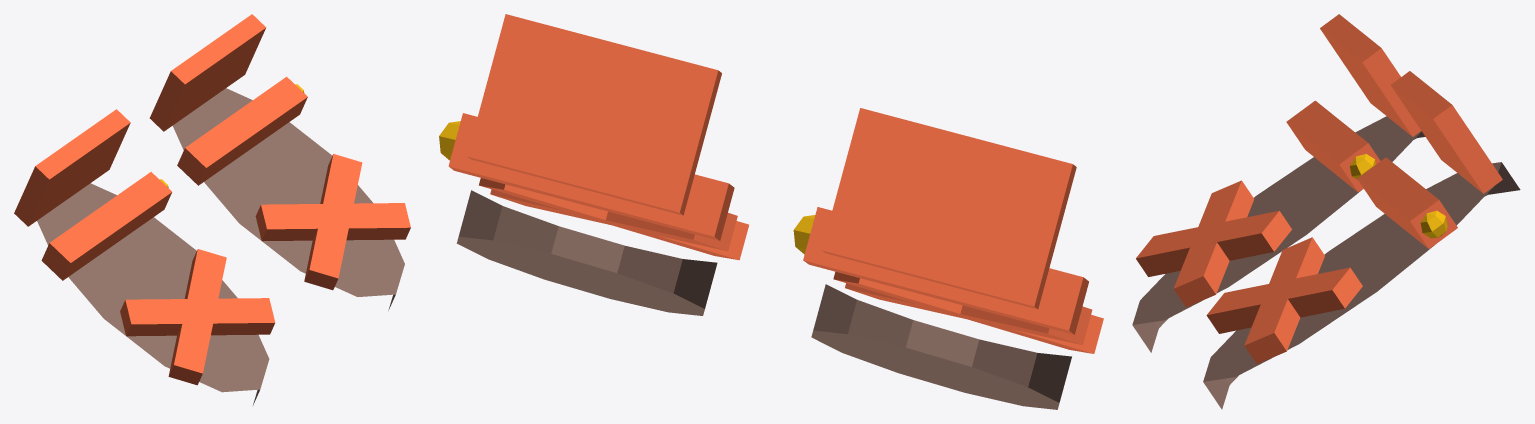
The model's file is sandal.glb.
The picture shows the model from 3 angles, left to right: view 1: azimuth 30°, elevation 25°; view 2: azimuth 150°, elevation 25°; view 3: azimuth 270°, elevation 25°; orthographic projection. The views are drawn at different scales.
Visible parts, largest first — view 1: sandal; view 2: sandal; view 3: sandal.
Boxes of the visible parts, x1=… form: sandal: x1=14, y1=14, x2=410, y2=405; sandal: x1=439, y1=14, x2=1103, y2=409; sandal: x1=1132, y1=14, x2=1520, y2=409.
Bounding box in the file's own units: 0.3892 × 0.2933 × 0.3208.
